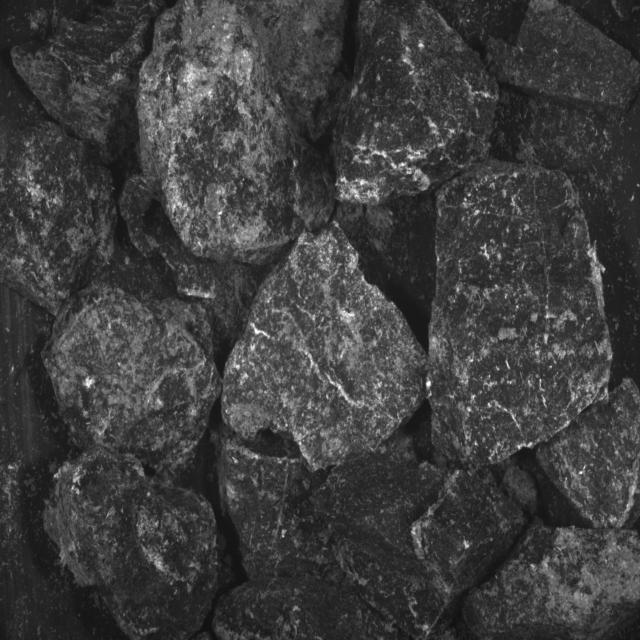Stones: (214, 436, 525, 640), (429, 161, 612, 466), (139, 1, 335, 265), (224, 224, 427, 471), (335, 1, 500, 205), (44, 284, 222, 472), (45, 449, 219, 640), (120, 178, 265, 365), (12, 1, 166, 164), (1, 123, 116, 314), (464, 526, 640, 640), (489, 1, 640, 115), (537, 379, 640, 529), (245, 1, 350, 142)
